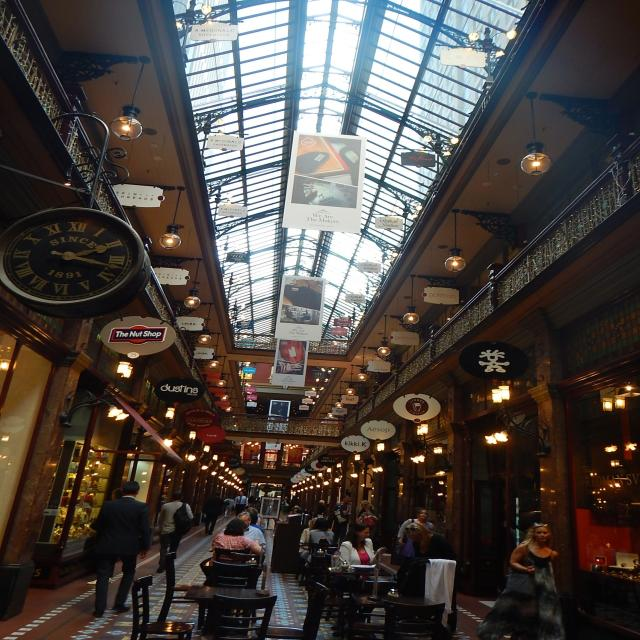body: (472, 520, 570, 640), (90, 481, 152, 618), (222, 490, 368, 535), (331, 521, 386, 631), (86, 487, 123, 584), (153, 490, 195, 574), (208, 518, 264, 566), (219, 511, 268, 557), (402, 522, 458, 560), (396, 507, 436, 550), (330, 493, 352, 551), (200, 490, 227, 536), (298, 517, 318, 563), (300, 517, 318, 559), (281, 306, 316, 327), (354, 503, 380, 528), (270, 398, 290, 422), (234, 491, 248, 517), (223, 496, 236, 518), (357, 500, 370, 519)
